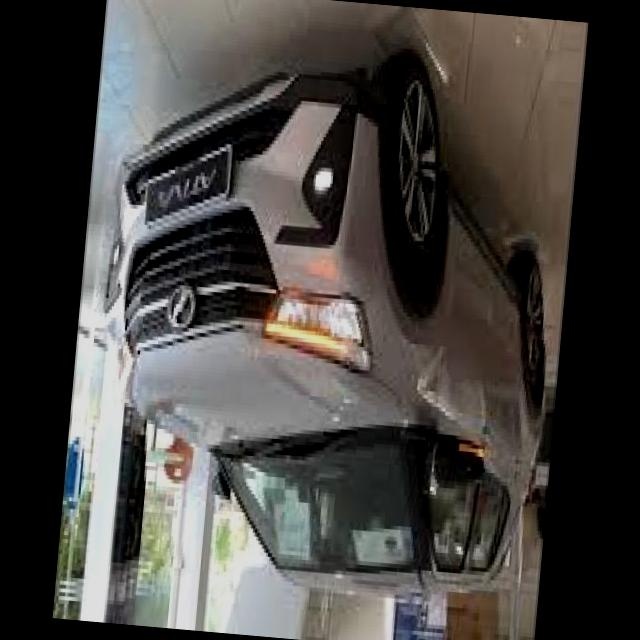PeroduaAtiva: (83, 28, 577, 612)
